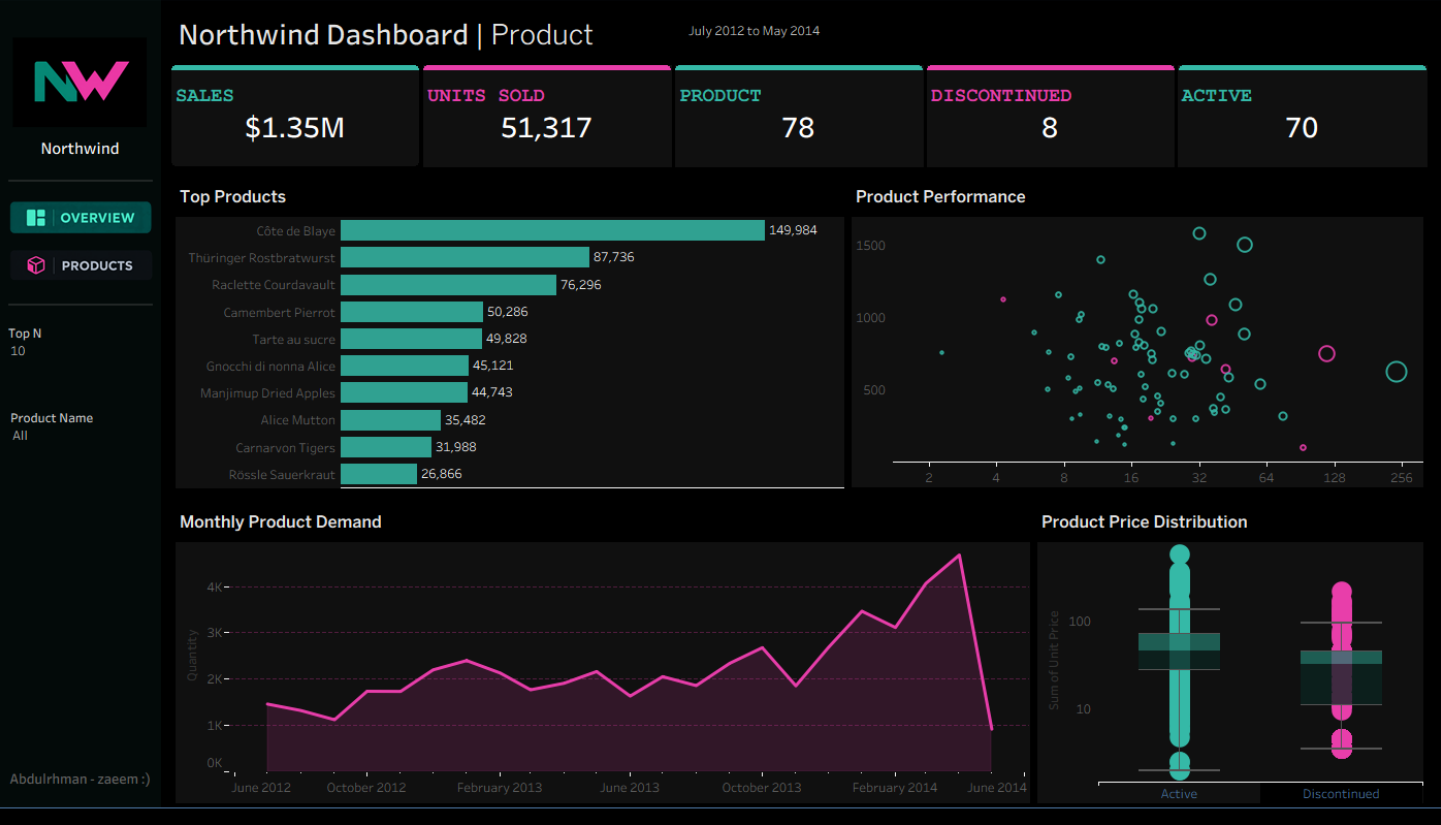

The dashboard page shown, as its layout file describes it:
{"tool":"tableau","page":{"name":"Product Analysis","canvas":[1400,800],"ordinal":1},"visuals":[{"type":"blank","box":[168,1,1216,10]},{"type":"text","box":[168,11,640,45]},{"type":"blank","box":[808,11,576,45]},{"type":"filter","title":"Monthly Product Demand","param":"[federated.13eqwf01oscyyw1924quf17f3vqo].[tmn:OrderDate:qk]","box":[666,22,725,25]},{"type":"image","param":"Image/Neon Teal and Magenta NW Logo.png","box":[1,33,157,95]},{"type":"worksheet","title":"TOTAL SALES","mark":"Automatic","box":[168,64,240,98]},{"type":"blank","box":[168,64,240,5]},{"type":"worksheet","title":"UNITS SOLD (2)","mark":"Automatic","box":[412,64,240,98]},{"type":"blank","box":[412,64,240,5]},{"type":"worksheet","title":"PRODUCT","mark":"Automatic","box":[656,64,240,98]},{"type":"blank","box":[656,64,240,5]},{"type":"worksheet","title":"ACTIVE (2)","mark":"Automatic","box":[900,64,239,98]},{"type":"blank","box":[900,64,240,5]},{"type":"worksheet","title":"ACTIVE","mark":"Automatic","box":[1143,64,241,98]},{"type":"blank","box":[1144,64,240,5]},{"type":"text","box":[1,128,157,32]},{"type":"blank","box":[1,160,157,582]},{"type":"worksheet","title":"Top product","mark":"Automatic","rows":["ProductName"],"cols":["Calculation_2169672297005056"],"box":[168,172,655,305]},{"type":"worksheet","title":"Product Performance","mark":"Automatic","rows":["Quantity"],"cols":["Calculation_1637234013003778"],"box":[823,172,561,305]},{"type":"blank","box":[10,175,140,2]},{"type":"dashboard-object","box":[10,195,139,33]},{"type":"dashboard-object","box":[10,242,140,33]},{"type":"blank","box":[10,295,140,2]},{"type":"parameter","param":"[Parameters].[Parameter 0752676996694016]","box":[10,314,138,75]},{"type":"filter","title":"Top product","param":"[federated.13eqwf01oscyyw1924quf17f3vqo].[none:ProductName:nk]","box":[12,396,132,49]},{"type":"worksheet","title":"Monthly Product Demand","mark":"Line","rows":["Quantity","Quantity"],"cols":["OrderDate"],"box":[168,487,835,296]},{"type":"worksheet","title":"Product Price Distribution","mark":"Circle","rows":["UnitPrice"],"cols":["Calculation_2169672297103362"],"box":[1003,487,381,296]},{"type":"text","box":[1,742,157,26]},{"type":"blank","box":[1,768,157,15]}]}

Visuals, with their boxes on the page's 1400x800 design canvas (x1, y1, x2, y2). These are canvas units, not pixel positions in the 1441x825 screenshot, which may show the page scaled, cropped or inside an application window:
blank: Rect(168, 1, 1384, 11)
text: Rect(168, 11, 808, 56)
blank: Rect(808, 11, 1384, 56)
"Monthly Product Demand" filter: Rect(666, 22, 1391, 47)
image: Rect(1, 33, 158, 128)
"TOTAL SALES" worksheet: Rect(168, 64, 408, 162)
blank: Rect(168, 64, 408, 69)
"UNITS SOLD (2)" worksheet: Rect(412, 64, 652, 162)
blank: Rect(412, 64, 652, 69)
"PRODUCT" worksheet: Rect(656, 64, 896, 162)
blank: Rect(656, 64, 896, 69)
"ACTIVE (2)" worksheet: Rect(900, 64, 1139, 162)
blank: Rect(900, 64, 1140, 69)
"ACTIVE" worksheet: Rect(1143, 64, 1384, 162)
blank: Rect(1144, 64, 1384, 69)
text: Rect(1, 128, 158, 160)
blank: Rect(1, 160, 158, 742)
"Top product" worksheet: Rect(168, 172, 823, 477)
"Product Performance" worksheet: Rect(823, 172, 1384, 477)
blank: Rect(10, 175, 150, 177)
dashboard-object: Rect(10, 195, 149, 228)
dashboard-object: Rect(10, 242, 150, 275)
blank: Rect(10, 295, 150, 297)
parameter: Rect(10, 314, 148, 389)
"Top product" filter: Rect(12, 396, 144, 445)
"Monthly Product Demand" worksheet (Line marks): Rect(168, 487, 1003, 783)
"Product Price Distribution" worksheet (Circle marks): Rect(1003, 487, 1384, 783)
text: Rect(1, 742, 158, 768)
blank: Rect(1, 768, 158, 783)
